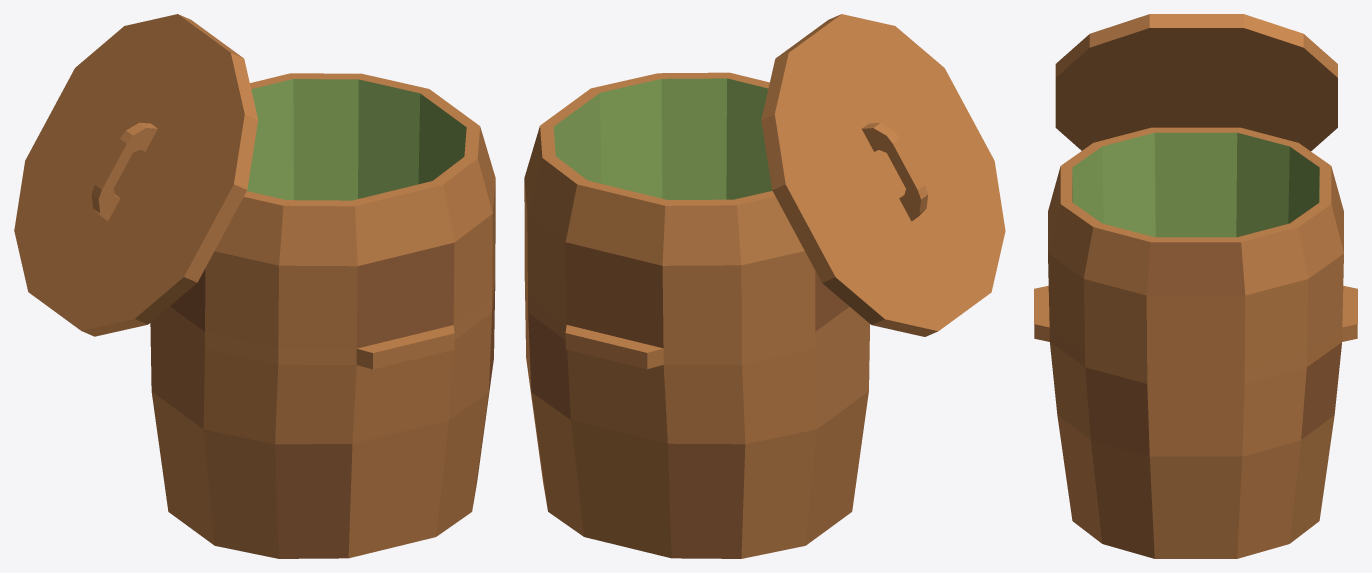
The model's file is basket.fbx.
3 views of the same model, side by side, from view 1: azimuth 30°, elevation 25°; view 2: azimuth 150°, elevation 25°; view 3: azimuth 270°, elevation 25° (orthographic). The views are drawn at different scales.
Visible parts, largest first — view 1: Cube, Cube.001; view 2: Cube, Cube.001; view 3: Cube, Cube.001.
Boxes of the visible parts, x1=… form: Cube: x1=150, y1=73, x2=495, y2=558; Cube.001: x1=14, y1=14, x2=258, y2=336; Cube: x1=524, y1=72, x2=869, y2=558; Cube.001: x1=761, y1=14, x2=1005, y2=336; Cube: x1=1034, y1=127, x2=1357, y2=558; Cube.001: x1=1055, y1=14, x2=1337, y2=151.
Size of the model in its own units: 284 by 324 by 217.
